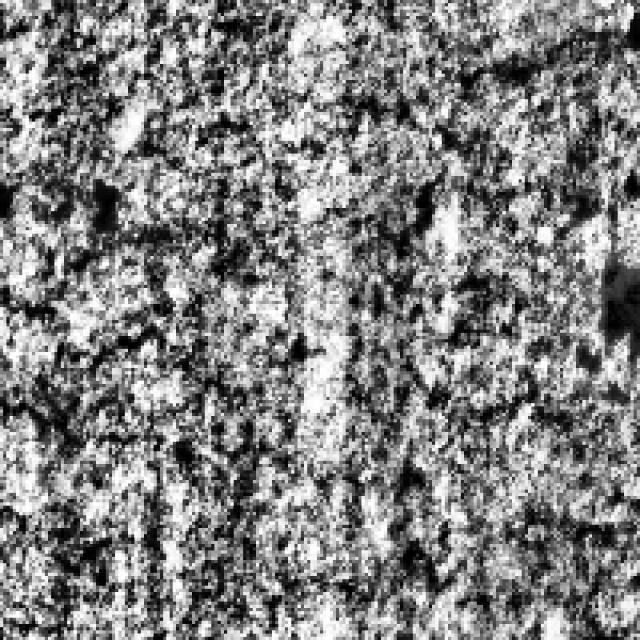Pitted_Surface: (0, 278, 278, 457), (400, 352, 608, 586)
